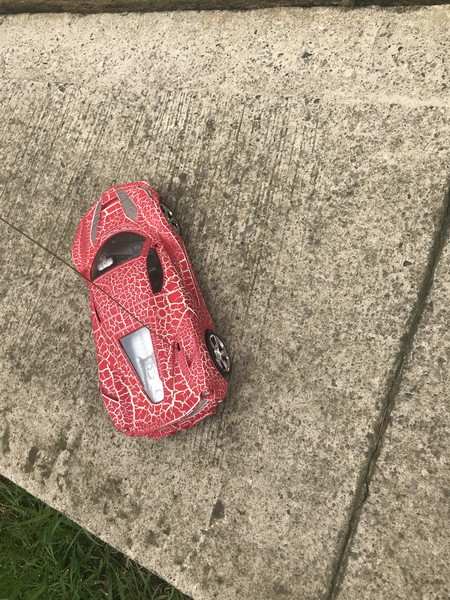RC: (66, 178, 231, 440)
